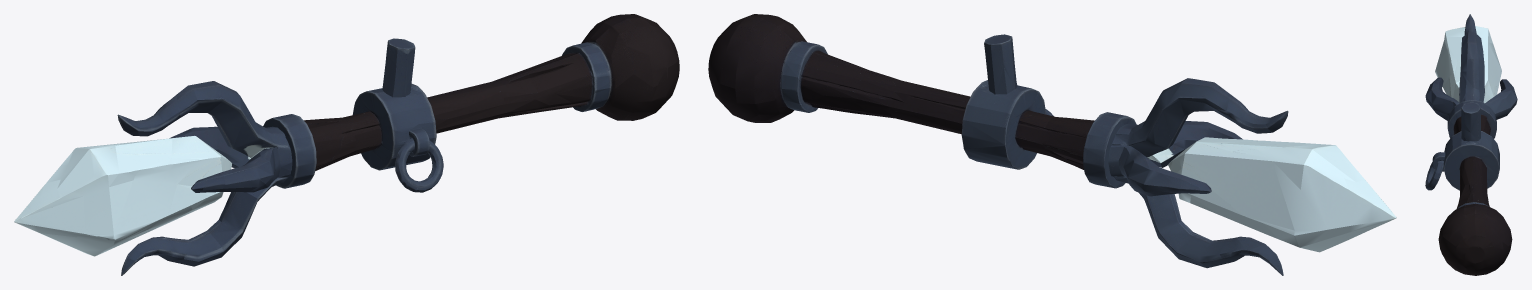
Rendered from turret.glb.
3 renders of one model, left to right at view 1: azimuth 30°, elevation 25°; view 2: azimuth 150°, elevation 25°; view 3: azimuth 270°, elevation 25°, orthographic. The views are drawn at different scales.
Bounding box in the file's own units: 1.9 × 0.4919 × 0.336.
Materials: 1 (1 with a texture image).
